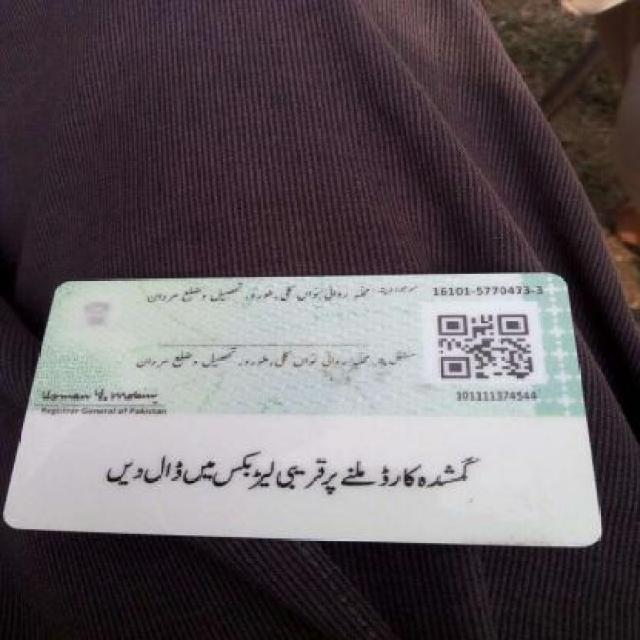Back: (12, 276, 611, 542)
